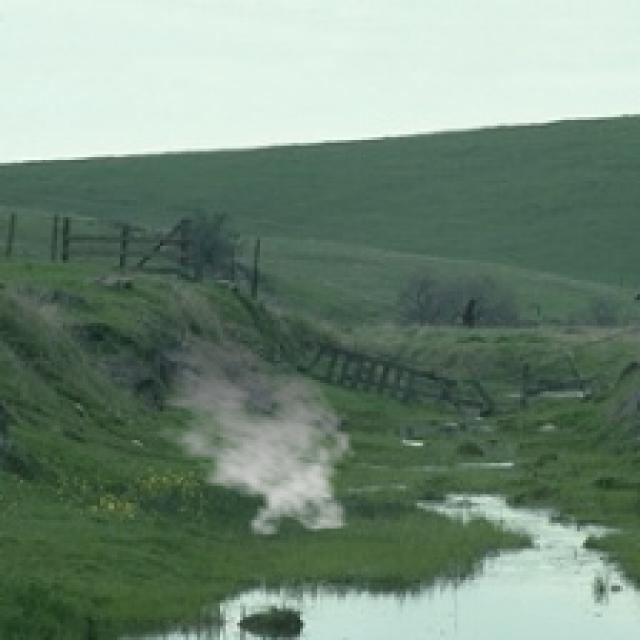Smoke: (143, 332, 360, 537)
